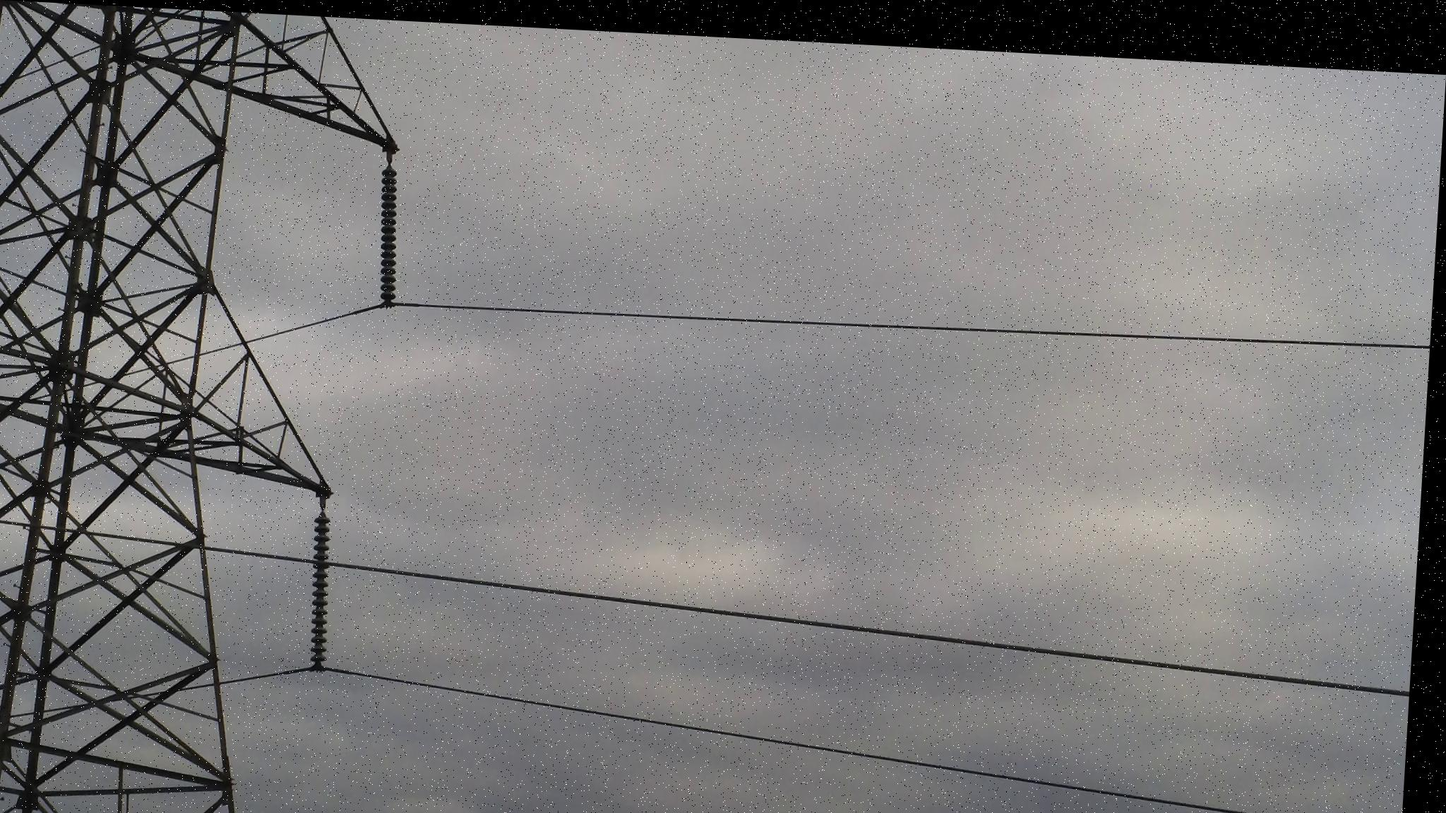tower: (0, 1, 419, 813)
